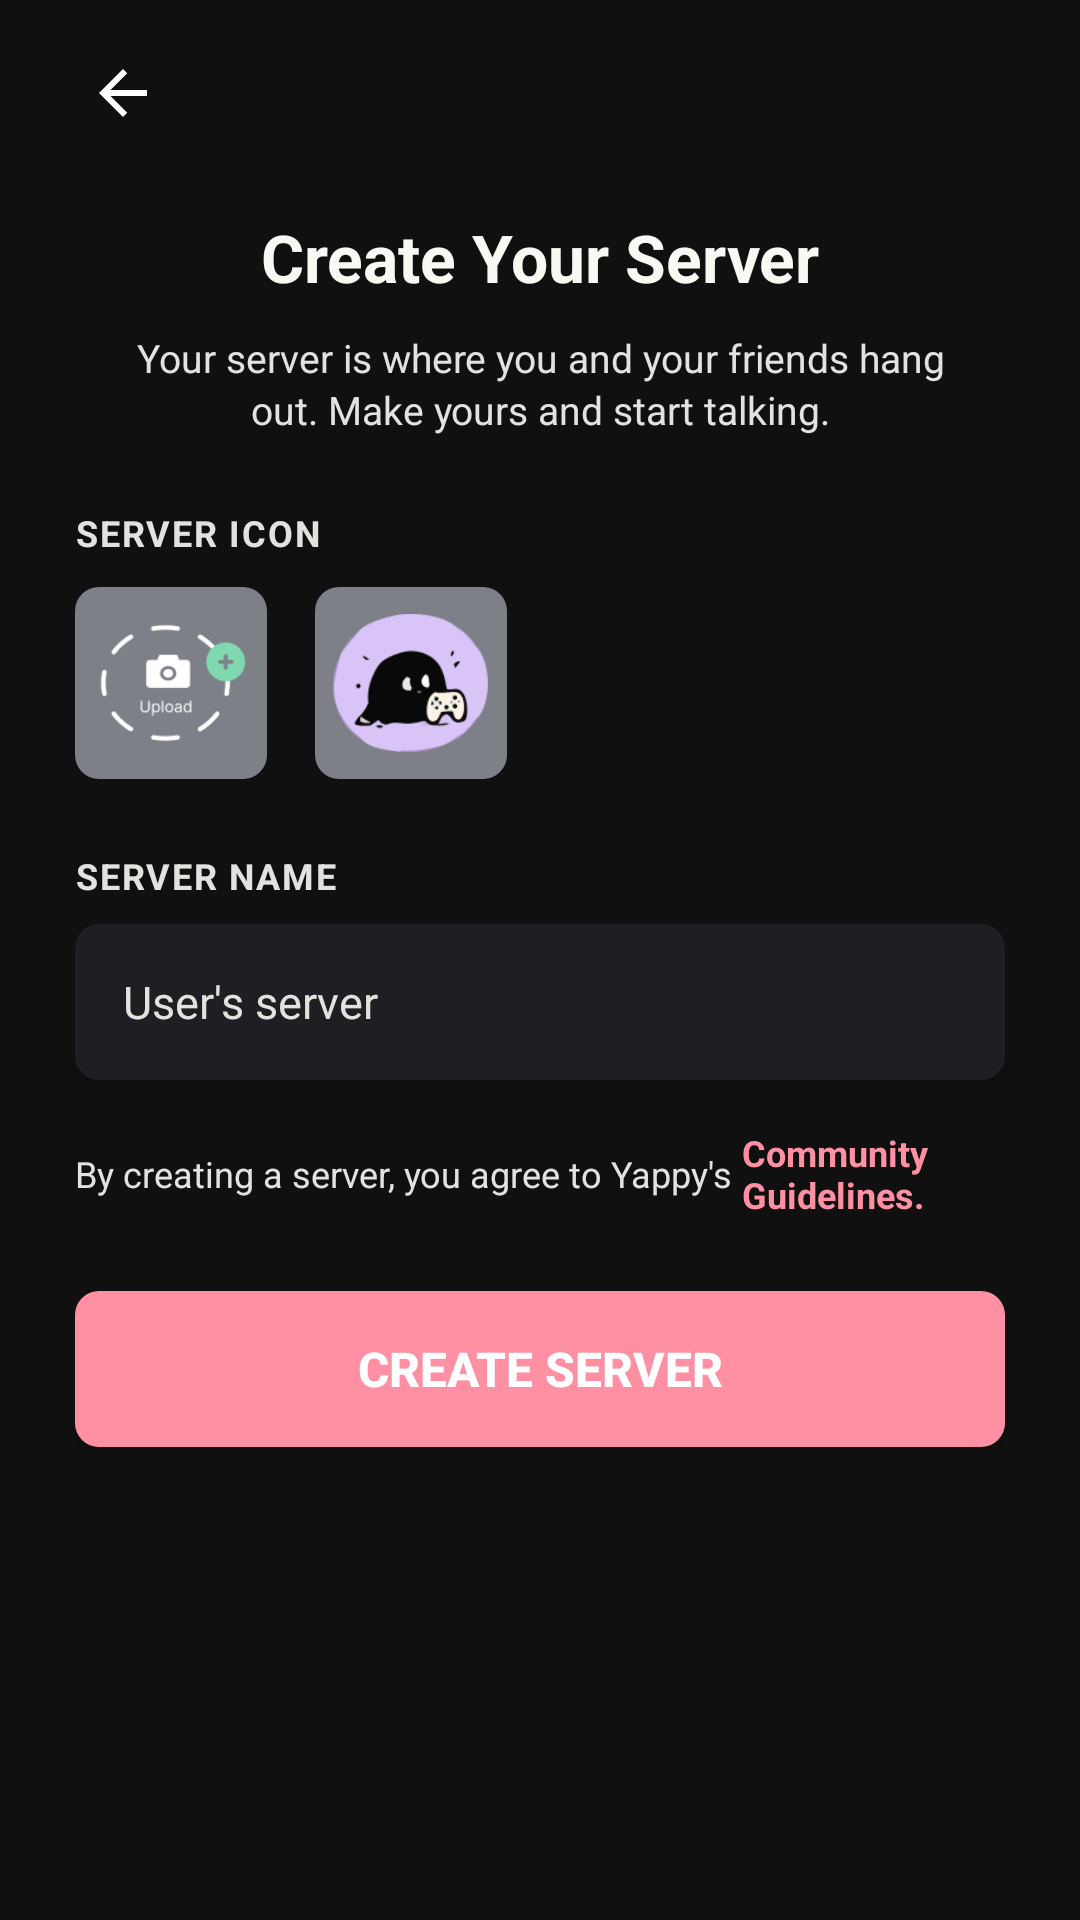

Where to tap for icons on this 1080 x 1920 app screen, as (x=x, y=y):
Back: (x=123, y=93)
Gaming icon: (x=410, y=683)
